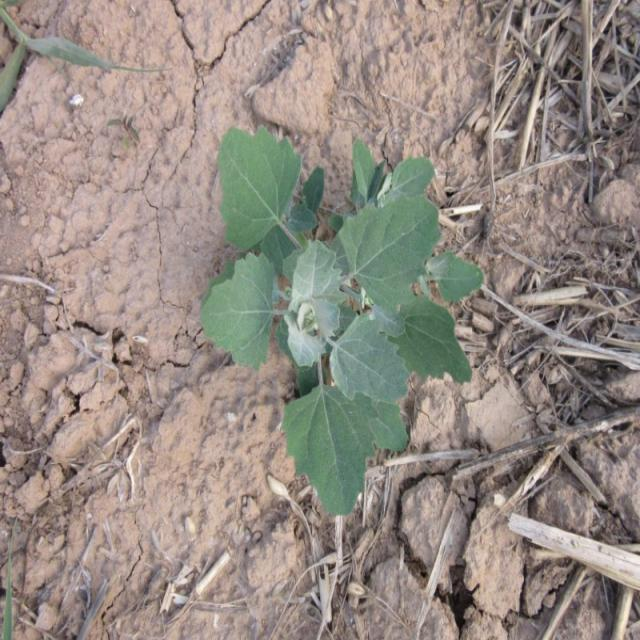ca: (206, 123, 475, 516)
